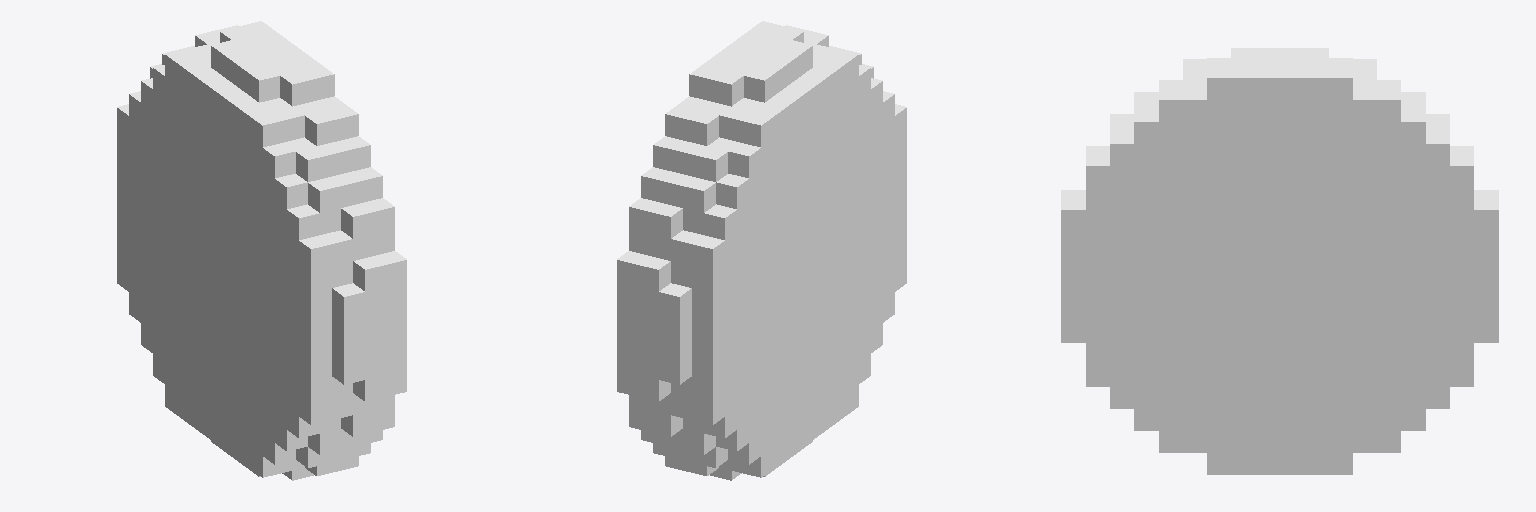
Rendered from factory4.4-11.obj.
3 renders of one model, left to right at view 1: azimuth 30°, elevation 25°; view 2: azimuth 150°, elevation 25°; view 3: azimuth 270°, elevation 25°, orthographic.
Parts seen in each view (by area): view 1: object 1; view 2: object 1; view 3: object 1.
Boxes of the visible parts, x1,y1,x2,y2 form: object 1: [117, 21, 406, 480]; object 1: [617, 21, 906, 480]; object 1: [1061, 48, 1498, 474].
Bounding box in the file's own units: 0.4 × 1.8 × 1.8.